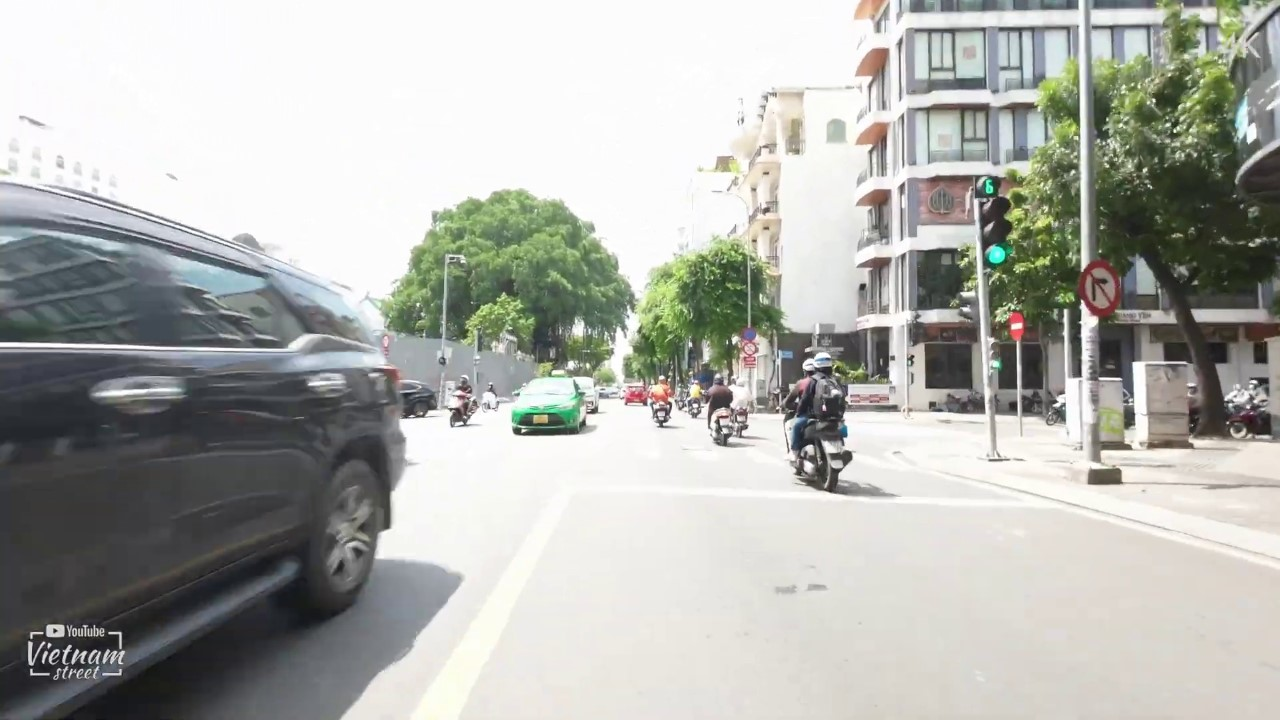cam_re_phai: (1078, 260, 1120, 319)
